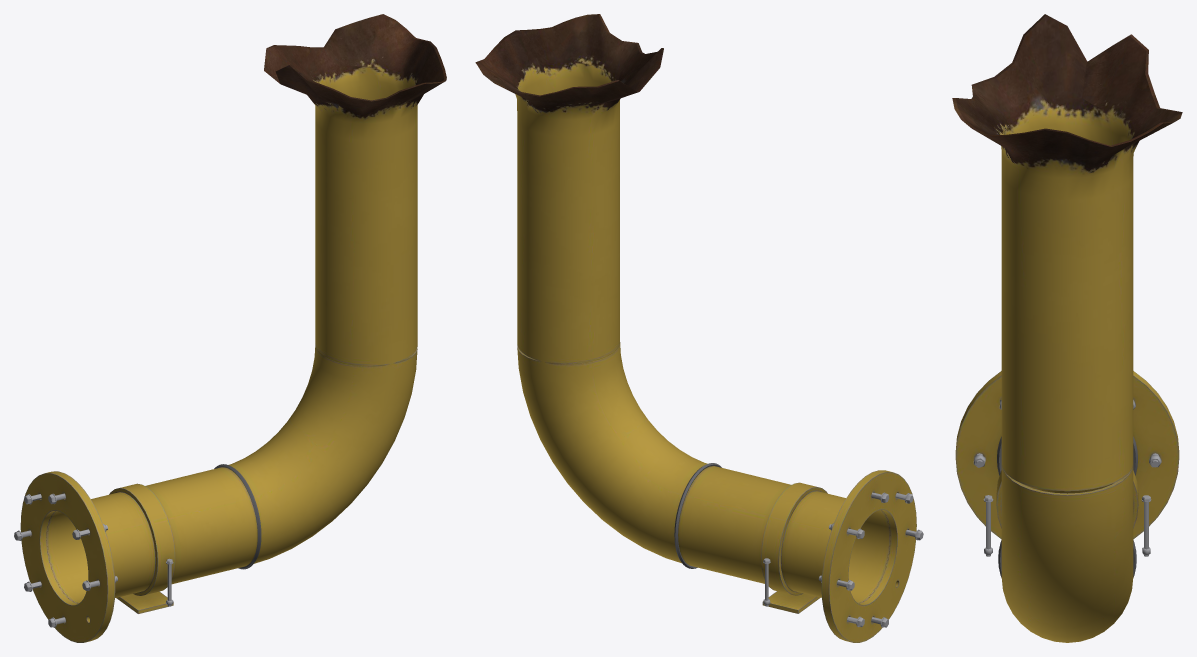
Rendered from industrial_pipe_elbow_torn.glb.
3 views of the same model, side by side, from view 1: azimuth 30°, elevation 25°; view 2: azimuth 150°, elevation 25°; view 3: azimuth 270°, elevation 25° (orthographic). The views are drawn at different scales.
Visible parts, largest first — view 1: industrial_pipe_elbow_torn_paint, industrial_pipe_elbow_torn_bolt; view 2: industrial_pipe_elbow_torn_paint, industrial_pipe_elbow_torn_bolt; view 3: industrial_pipe_elbow_torn_paint, industrial_pipe_elbow_torn_bolt, industrial_pipe_elbow_torn_weld.
Part boxes in pixels (bbox=[...]): industrial_pipe_elbow_torn_paint: bbox=[20, 14, 446, 642]; industrial_pipe_elbow_torn_bolt: bbox=[14, 493, 173, 627]; industrial_pipe_elbow_torn_paint: bbox=[475, 14, 916, 642]; industrial_pipe_elbow_torn_bolt: bbox=[763, 492, 923, 627]; industrial_pipe_elbow_torn_paint: bbox=[952, 14, 1182, 642]; industrial_pipe_elbow_torn_bolt: bbox=[973, 399, 1161, 556]; industrial_pipe_elbow_torn_weld: bbox=[997, 436, 1137, 577].
Size of the model in its own units: 1.3 by 1.7 by 0.525.
Materials: 3 (1 with a texture image).
